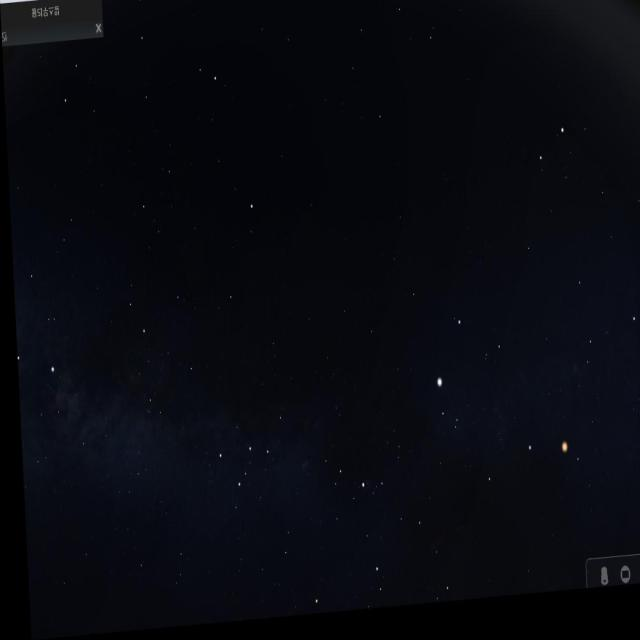cassiopeia: (204, 406, 298, 504)
